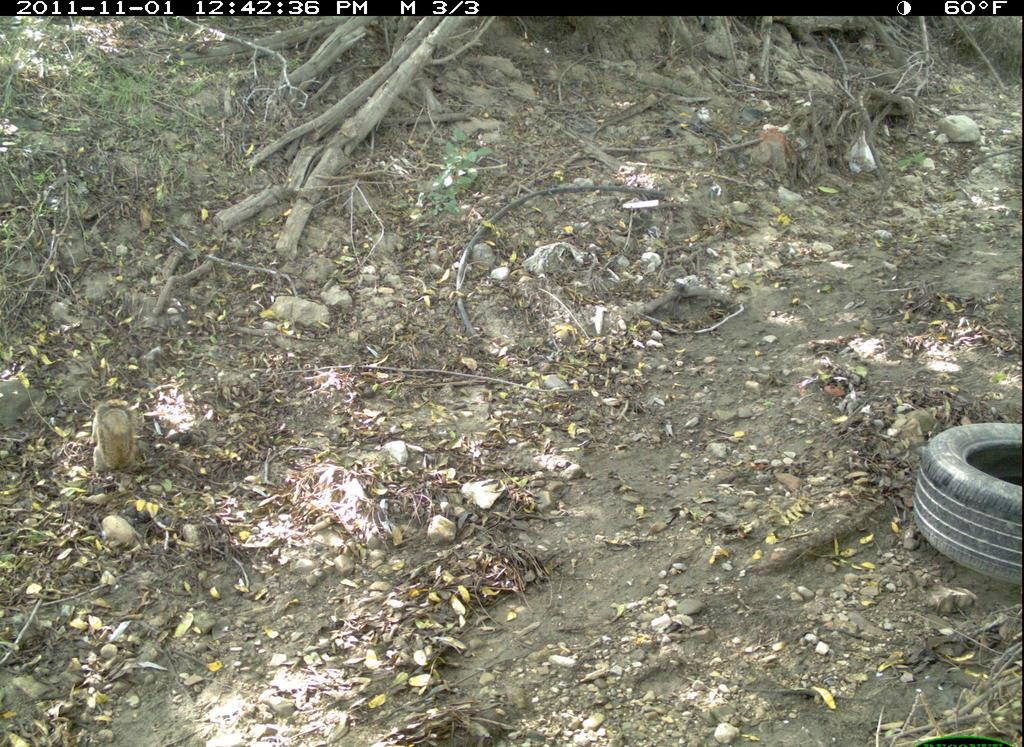squirrel: (73, 391, 158, 487)
